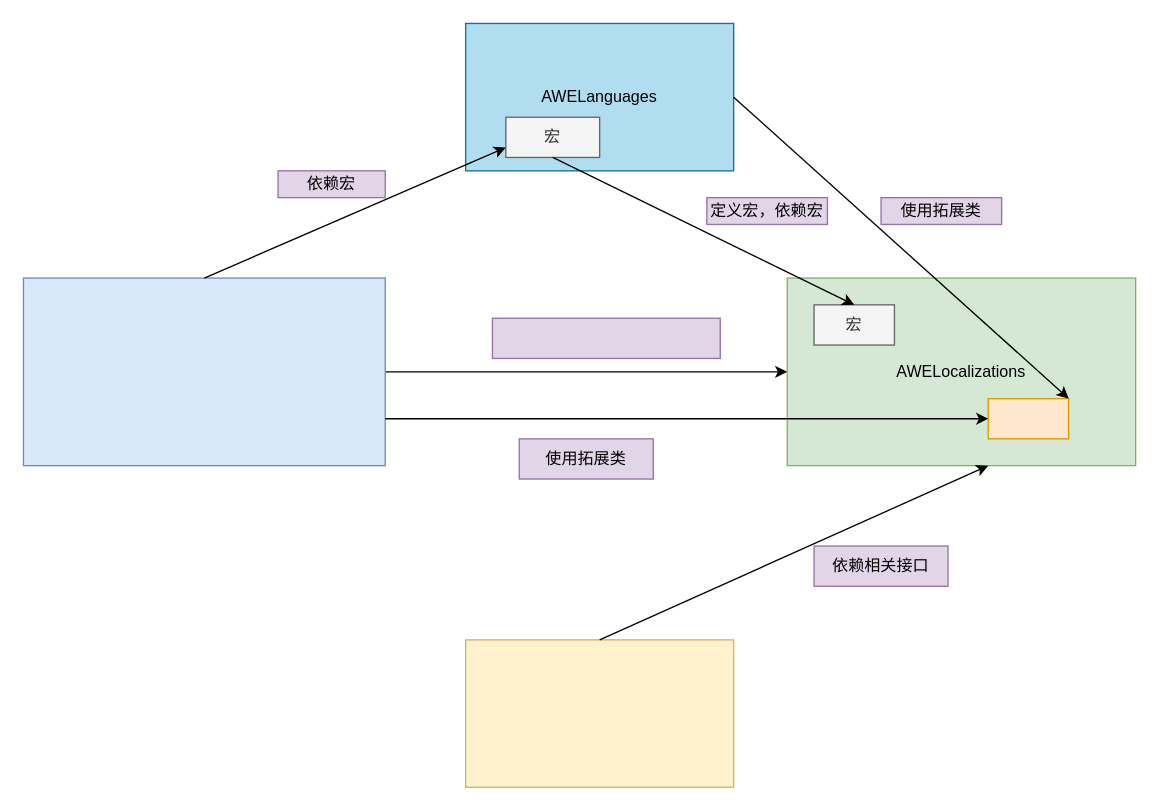
Image size: 1159x811. Some labels were removed from this diagram. Here are the shapes that lost their labels. From the top down, the centre of each, then its label:
pixel 605 337: 依赖 ALPLocalizationsManager 相关接口
pixel 203 371: AWEUIKit
pixel 1028 418: category
pixel 599 713: SwiftBasicAdapter
